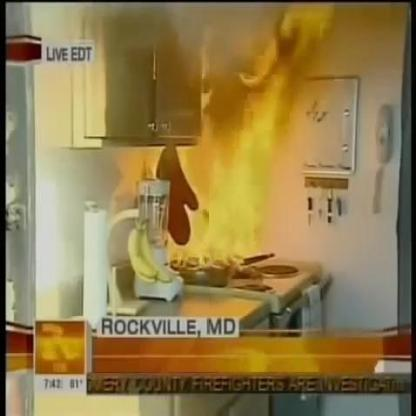fire: (173, 73, 287, 272)
